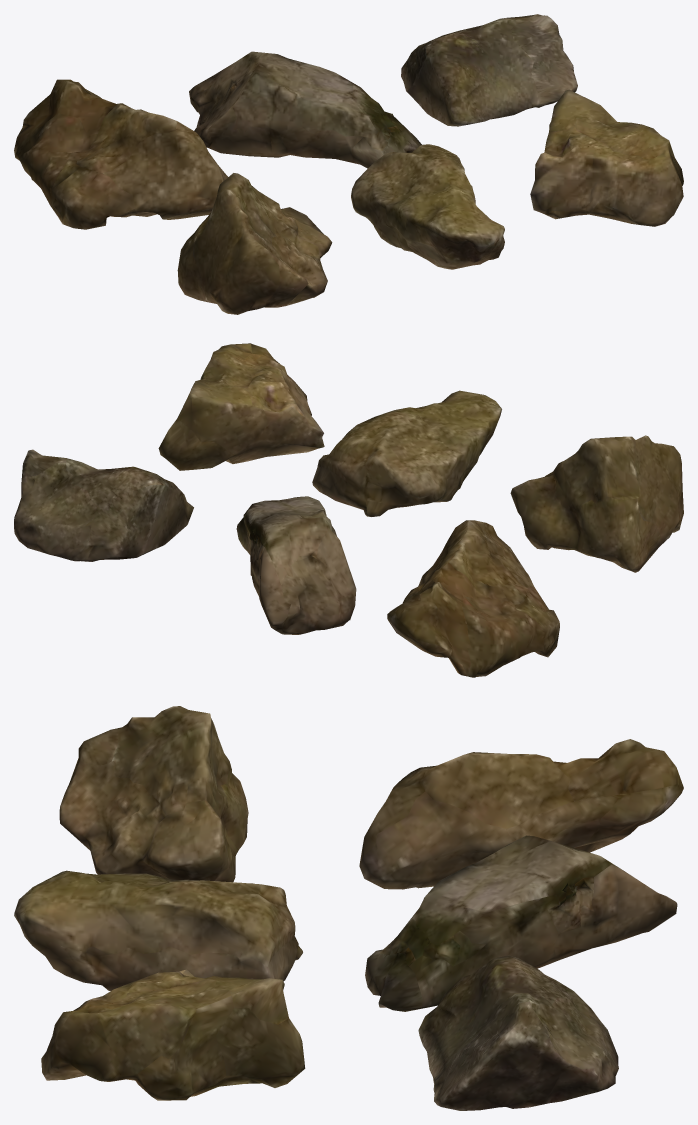
Rendered from rocks.glb.
3 renders of one model, top to bottom at view 1: azimuth 30°, elevation 25°; view 2: azimuth 150°, elevation 25°; view 3: azimuth 270°, elevation 25°, orthographic. The views are drawn at different scales.
Parts seen in each view (by area): view 1: rock_moss_set_01_rock01, rock_moss_set_01_rock02, rock_moss_set_01_rock06, rock_moss_set_01_rock04, rock_moss_set_01_rock03, rock_moss_set_01_rock05; view 2: rock_moss_set_01_rock04, rock_moss_set_01_rock01, rock_moss_set_01_rock05, rock_moss_set_01_rock03, rock_moss_set_01_rock06, rock_moss_set_01_rock02; view 3: rock_moss_set_01_rock01, rock_moss_set_01_rock02, rock_moss_set_01_rock05, rock_moss_set_01_rock04, rock_moss_set_01_rock06, rock_moss_set_01_rock03.
Boxes of the visible parts, x1=… form: rock_moss_set_01_rock01: x1=14, y1=79, x2=227, y2=229; rock_moss_set_01_rock02: x1=189, y1=51, x2=421, y2=168; rock_moss_set_01_rock06: x1=530, y1=89, x2=683, y2=226; rock_moss_set_01_rock04: x1=177, y1=173, x2=332, y2=314; rock_moss_set_01_rock03: x1=401, y1=14, x2=577, y2=126; rock_moss_set_01_rock05: x1=351, y1=144, x2=504, y2=269; rock_moss_set_01_rock04: x1=510, y1=435, x2=683, y2=572; rock_moss_set_01_rock01: x1=387, y1=520, x2=559, y2=677; rock_moss_set_01_rock05: x1=312, y1=390, x2=501, y2=516; rock_moss_set_01_rock03: x1=14, y1=449, x2=193, y2=561; rock_moss_set_01_rock06: x1=158, y1=343, x2=324, y2=470; rock_moss_set_01_rock02: x1=236, y1=496, x2=356, y2=634; rock_moss_set_01_rock01: x1=359, y1=739, x2=683, y2=889; rock_moss_set_01_rock02: x1=365, y1=835, x2=677, y2=1011; rock_moss_set_01_rock05: x1=14, y1=870, x2=302, y2=990; rock_moss_set_01_rock04: x1=59, y1=706, x2=248, y2=882; rock_moss_set_01_rock06: x1=41, y1=969, x2=305, y2=1100; rock_moss_set_01_rock03: x1=418, y1=955, x2=618, y2=1110.
Size of the model in its own units: 8 by 1.76 by 6.94.
1 material, 1 textured.
